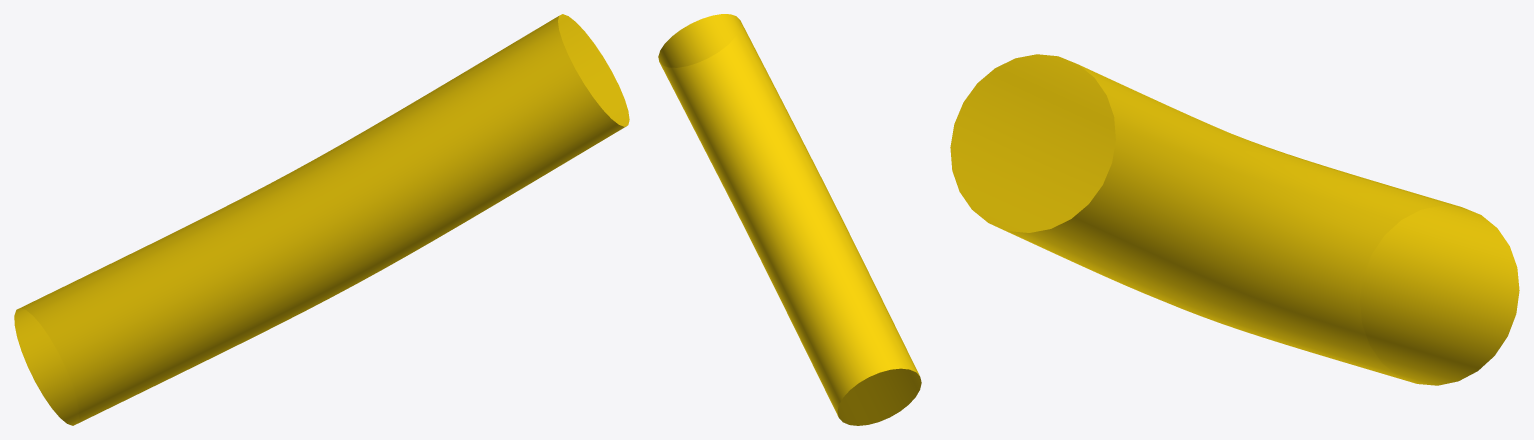
Rendered from Event_421556567_track_16.fbx.
3 views of the same model, side by side, from view 1: azimuth 30°, elevation 25°; view 2: azimuth 150°, elevation 25°; view 3: azimuth 270°, elevation 25° (orthographic). The views are drawn at different scales.
Visible parts, largest first — view 1: Model; view 2: Model; view 3: Model.
Boxes of the visible parts, box(x1,y1,x2,y2) form: Model: box(14, 14, 629, 425); Model: box(658, 14, 921, 425); Model: box(950, 54, 1519, 385).
Bounding box in the file's own units: 0.17 × 0.1373 × 0.1248.
